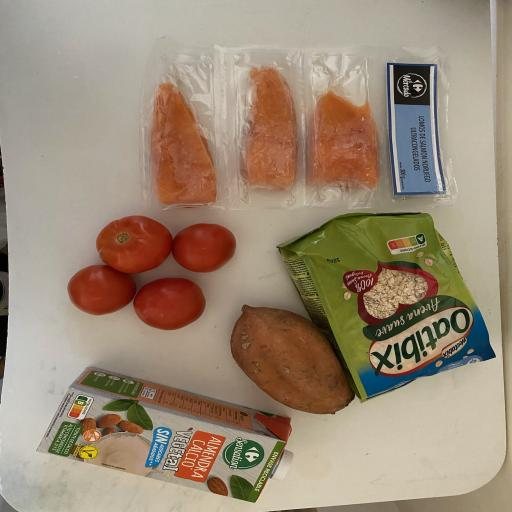milk_almond: (30, 360, 304, 508)
oat: (273, 208, 503, 404)
salmon: (145, 74, 222, 211), (302, 85, 387, 193), (238, 62, 300, 194)
sweet_potato: (226, 299, 360, 419)
tomato: (94, 212, 174, 274), (132, 269, 210, 332), (61, 262, 139, 320), (170, 220, 241, 275)
